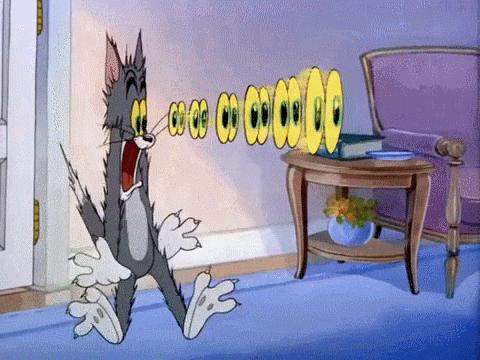tom: (57, 29, 243, 345)
